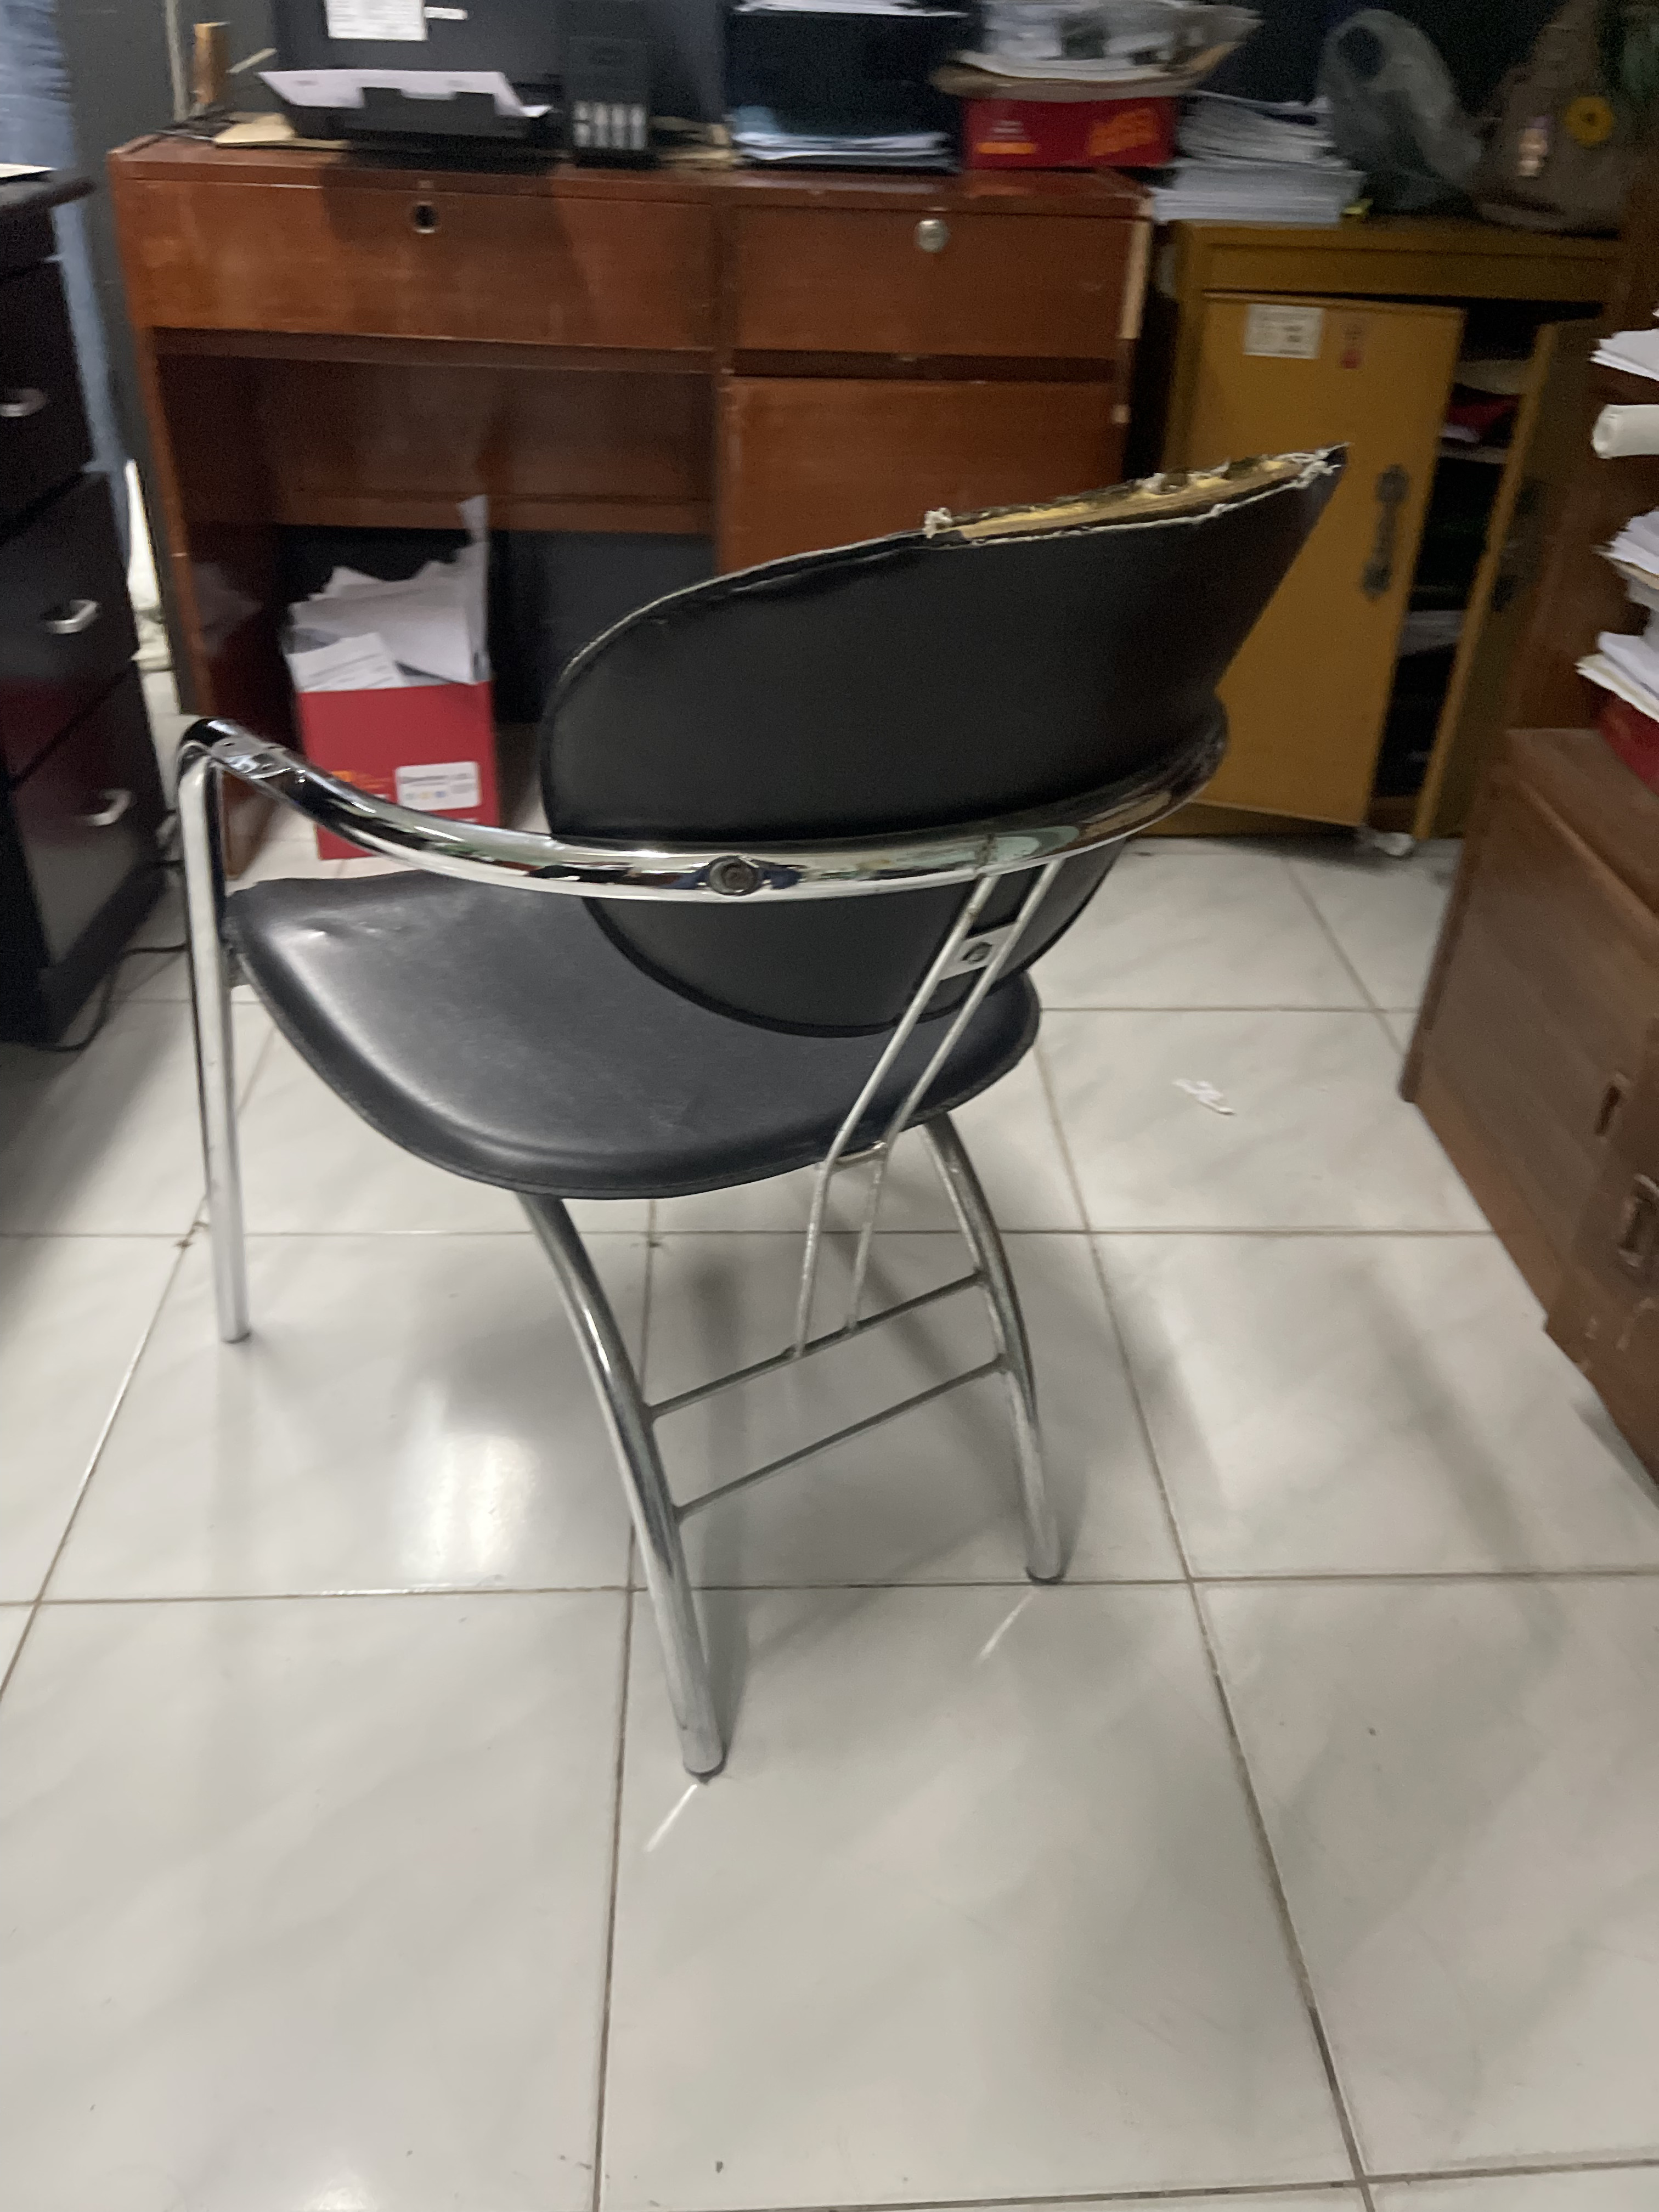chair1: (173, 442, 1354, 1773)
